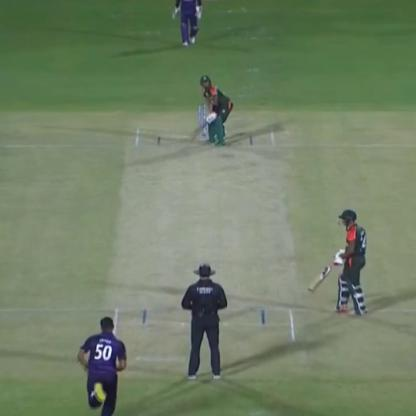bat: (308, 250, 337, 298), (192, 107, 216, 145)
pitch: (120, 127, 302, 344)
